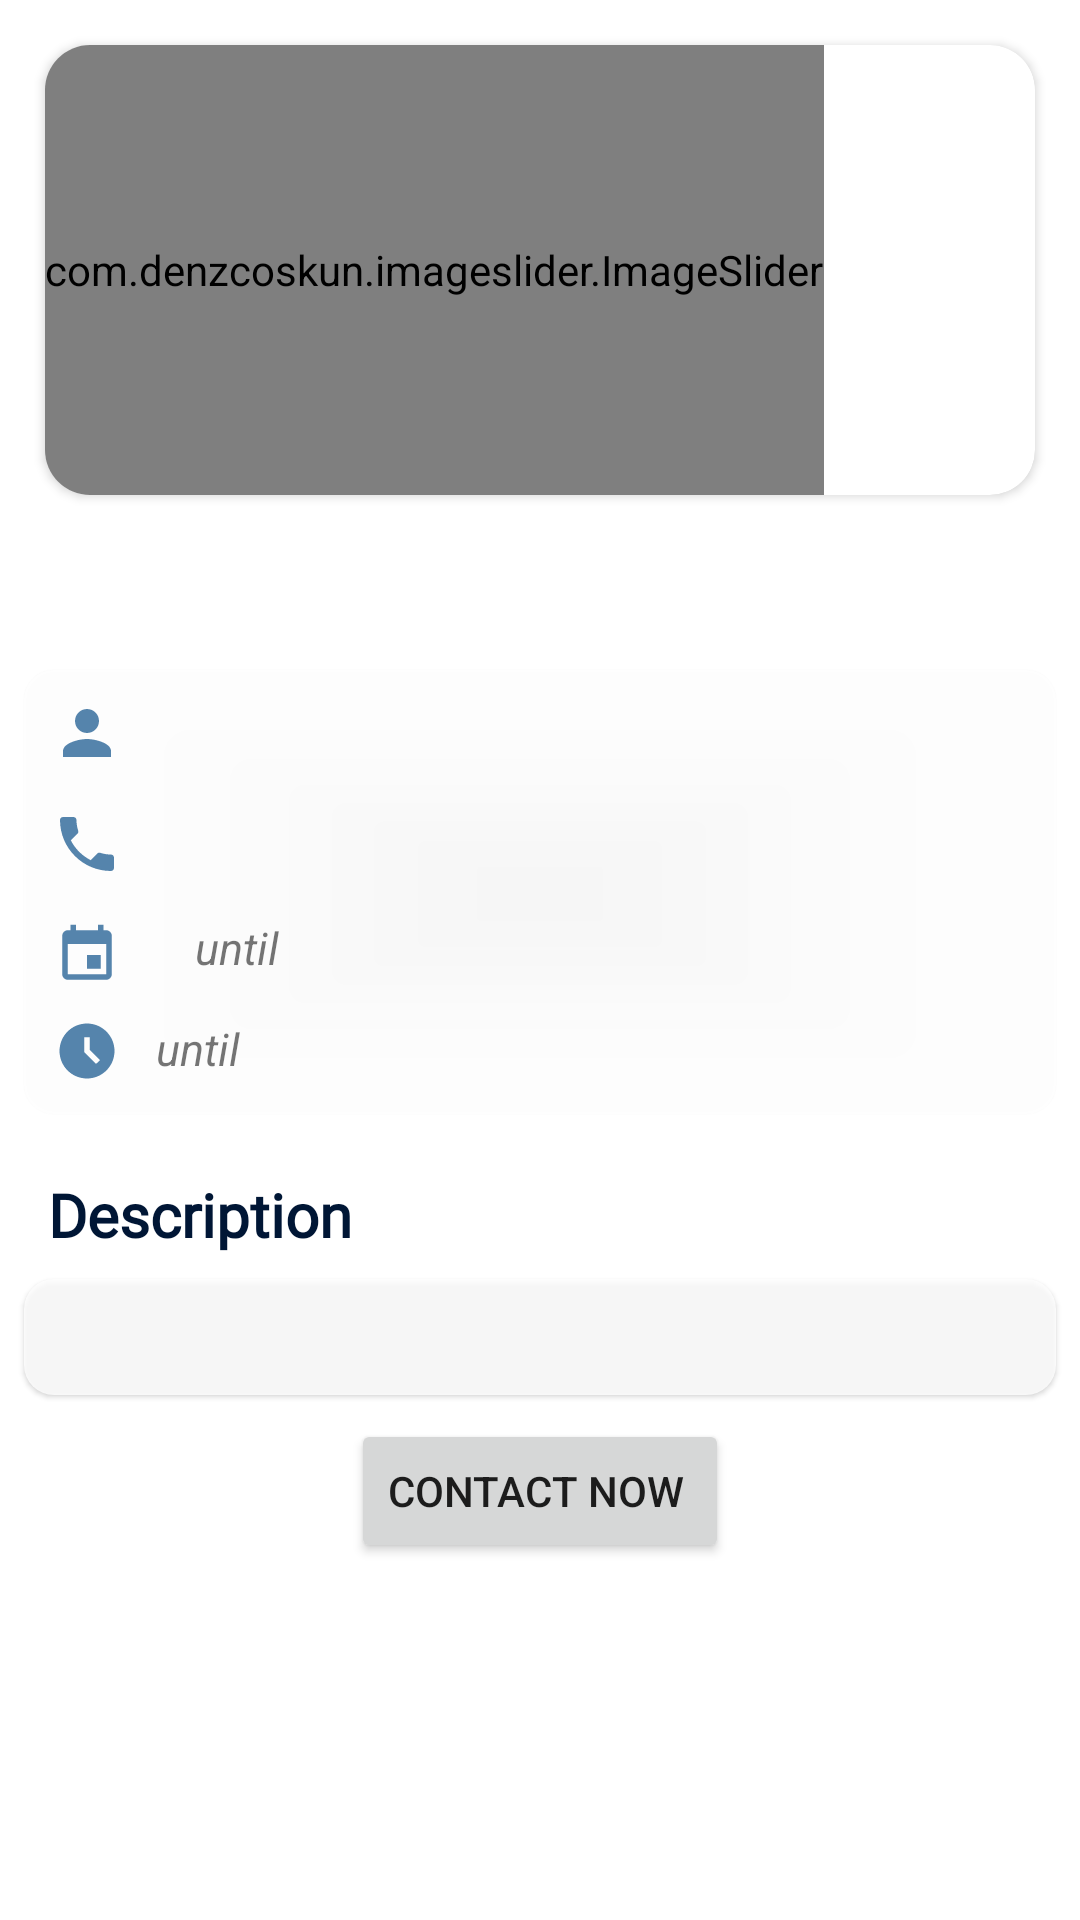

Locate icon controls on the screen. Image size 1080px x 1920px, boxes as [x1,y1,x2,y2].
person: [63,709,111,757]
phone: [60,817,114,871]
time details: [59,1023,115,1079]
